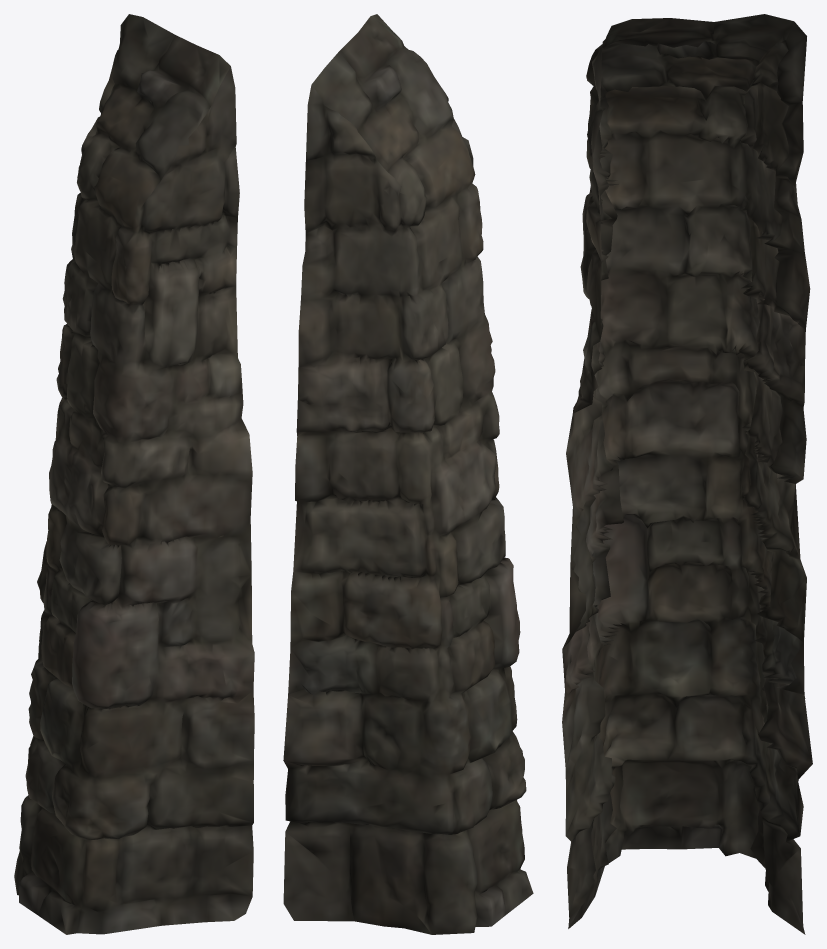
File: C_Wall_Bracer_02.fbx
3 views of the same model, side by side, from view 1: azimuth 30°, elevation 25°; view 2: azimuth 150°, elevation 25°; view 3: azimuth 270°, elevation 25° (orthographic). The views are drawn at different scales.
Visible parts, largest first — view 1: C_Wall_Bracer_02; view 2: C_Wall_Bracer_02; view 3: C_Wall_Bracer_02.
Part boxes in pixels (bbox=[...]): C_Wall_Bracer_02: bbox=[14, 14, 254, 934]; C_Wall_Bracer_02: bbox=[283, 14, 533, 934]; C_Wall_Bracer_02: bbox=[562, 14, 812, 934].
Size of what is drawn, in the model's own units: 181 by 860 by 213.
